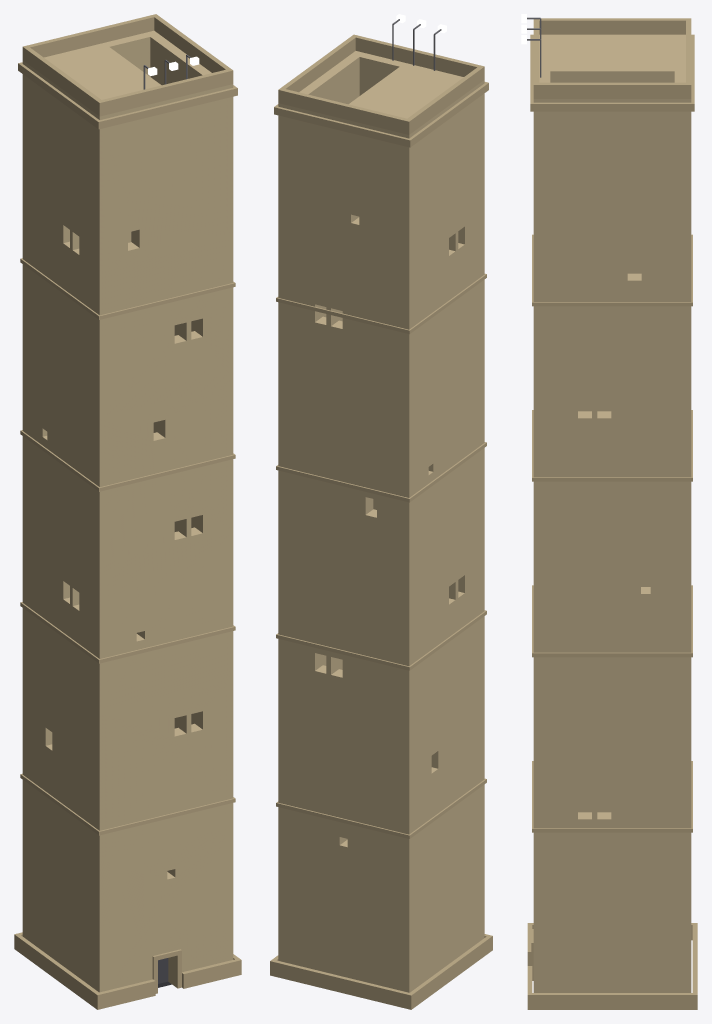
The model's file is tower.glb.
3 views of the same model, side by side, from view 1: azimuth 30°, elevation 25°; view 2: azimuth 150°, elevation 25°; view 3: azimuth 270°, elevation 25° (orthographic). The views are drawn at different scales.
Visible parts, largest first — view 1: seg5, seg2, seg4, seg1, seg3, seg0, parapet, trim0, trim5, trim1, trim2, trim4 (+1 smaller); view 2: seg5, seg4, seg1, seg2, seg3, seg0, parapet, trim0, trim5, trim2, trim3, trim4 (+1 smaller); view 3: seg5, seg3, seg2, seg1, seg4, seg0, parapet, trim0, trim5, trim2, trim4, trim1 (+1 smaller).
Boxes of the visible parts, bbox=[...] form: seg5: bbox=[22, 30, 233, 269]; seg2: bbox=[22, 508, 233, 711]; seg4: bbox=[22, 214, 233, 416]; seg1: bbox=[22, 656, 233, 858]; seg3: bbox=[22, 361, 233, 564]; seg0: bbox=[22, 803, 233, 992]; parapet: bbox=[22, 14, 233, 116]; trim0: bbox=[14, 932, 241, 1009]; trim5: bbox=[18, 62, 237, 129]; trim1: bbox=[20, 773, 235, 835]; trim2: bbox=[20, 602, 235, 663]; trim4: bbox=[20, 258, 235, 319]; seg5: bbox=[278, 51, 484, 284]; seg4: bbox=[278, 230, 484, 429]; seg1: bbox=[278, 659, 484, 861]; seg2: bbox=[278, 499, 484, 717]; seg3: bbox=[278, 374, 484, 573]; seg0: bbox=[278, 807, 484, 992]; parapet: bbox=[278, 34, 484, 134]; trim0: bbox=[270, 934, 492, 1009]; trim5: bbox=[274, 82, 488, 147]; trim2: bbox=[276, 610, 486, 670]; trim3: bbox=[276, 442, 486, 502]; trim4: bbox=[276, 273, 486, 334]; seg5: bbox=[533, 34, 691, 255]; seg3: bbox=[533, 399, 691, 556]; seg2: bbox=[533, 556, 691, 706]; seg1: bbox=[533, 706, 691, 856]; seg4: bbox=[533, 255, 691, 405]; seg0: bbox=[533, 800, 691, 992]; parapet: bbox=[533, 18, 691, 98]; trim0: bbox=[527, 923, 697, 1009]; trim5: bbox=[530, 34, 694, 111]; trim2: bbox=[532, 585, 692, 657]; trim4: bbox=[532, 234, 692, 306]; trim1: bbox=[532, 761, 692, 832].
Size of the model in its own units: 12.3 by 76.04 by 12.75.
